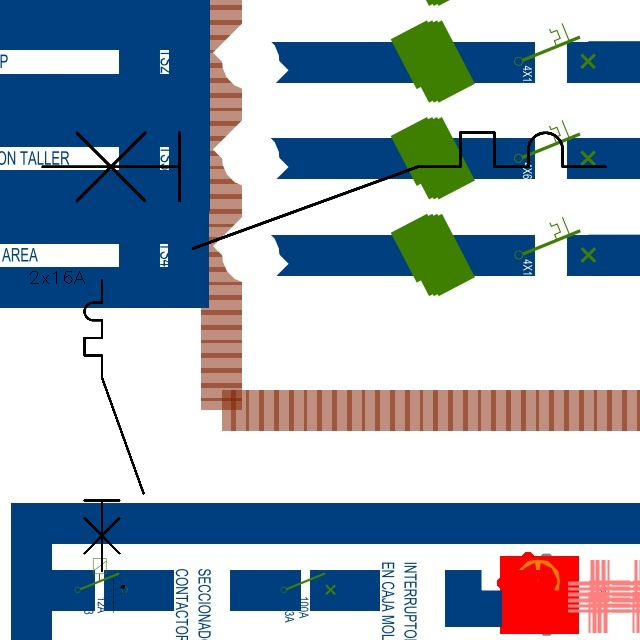interruptor_termomagnetico: (28, 118, 620, 263), (77, 273, 151, 578)
